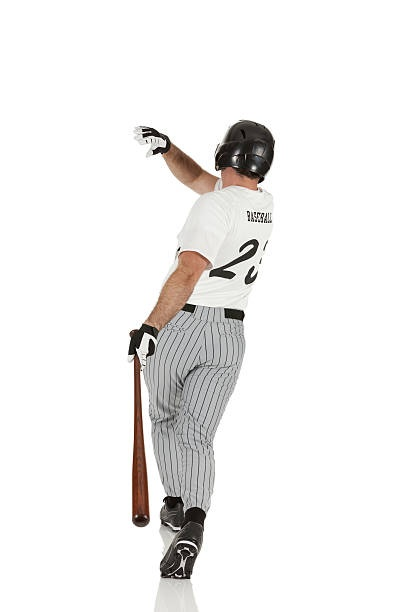bita: (122, 328, 165, 527)
